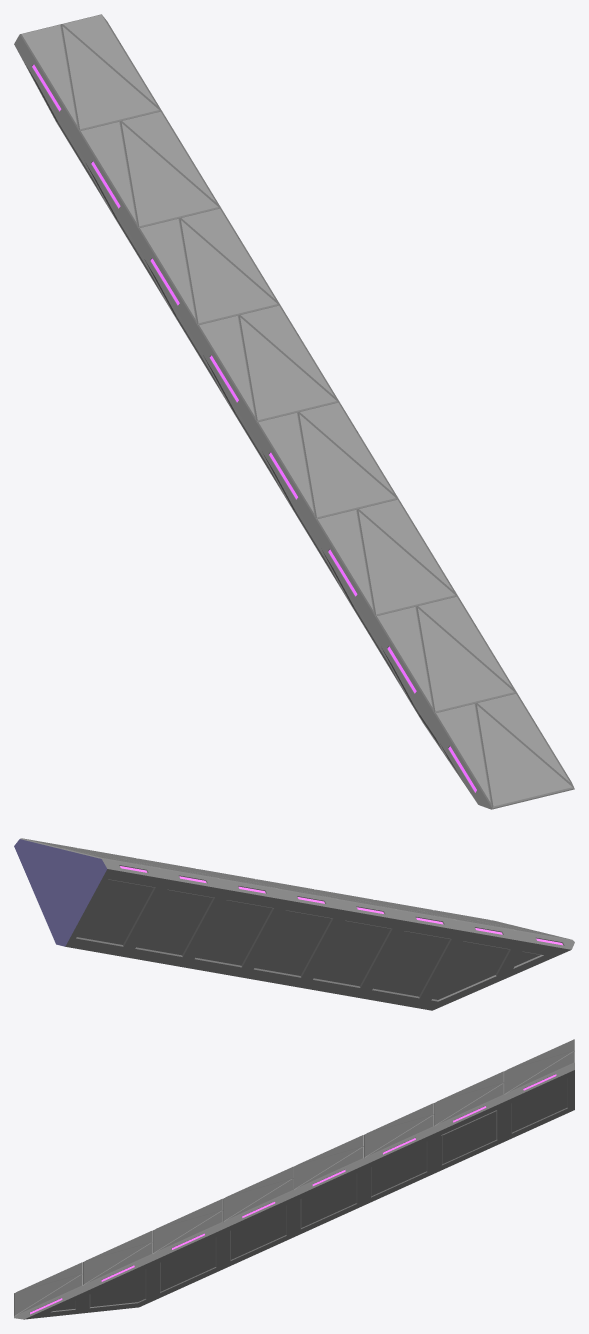
Rendered from SZ_Slope.FBX.
The picture shows the model from 3 angles, top to bottom: view 1: azimuth 30°, elevation 25°; view 2: azimuth 150°, elevation 25°; view 3: azimuth 270°, elevation 25°; orthographic projection. The views are drawn at different scales.
Visible parts, largest first — view 1: SZ_Slope; view 2: SZ_Slope; view 3: SZ_Slope.
Boxes of the visible parts, <box> form: SZ_Slope: <box>14,14,574,809</box>; SZ_Slope: <box>14,838,574,1010</box>; SZ_Slope: <box>14,1039,574,1319</box>.
Size of the model in its own units: 91.06 by 798 by 400.
